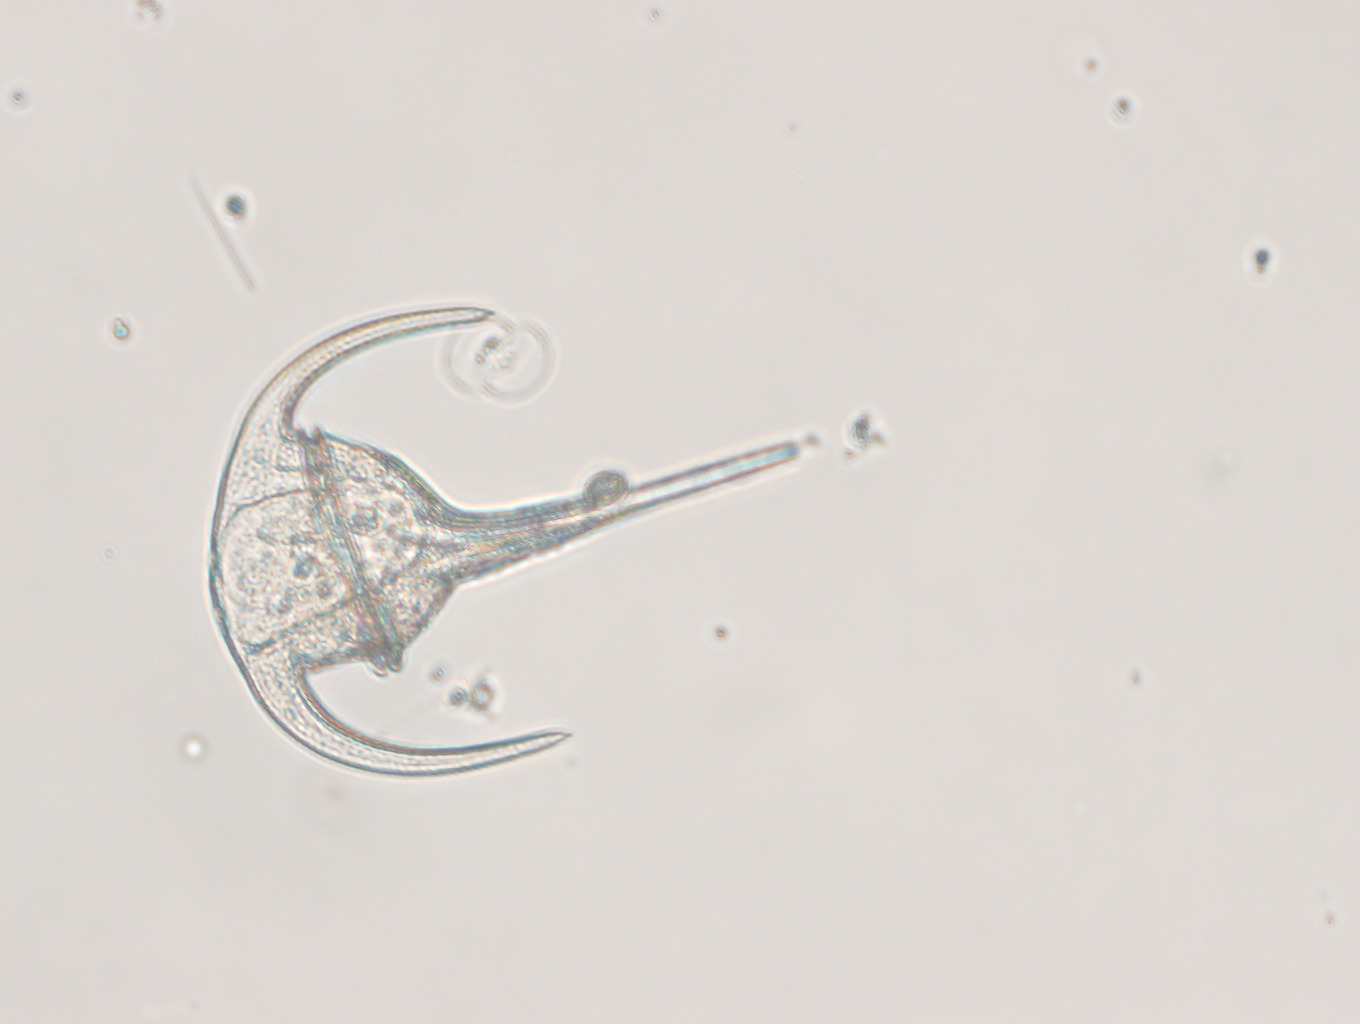ceratium tripos: (207, 305, 797, 778)
